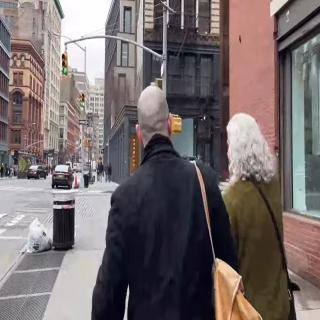Garbage: (25, 217, 54, 254)
